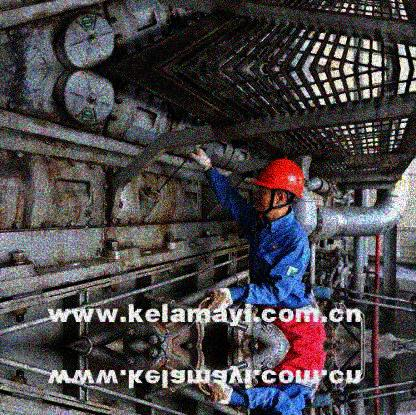helmet: (253, 157, 303, 217)
